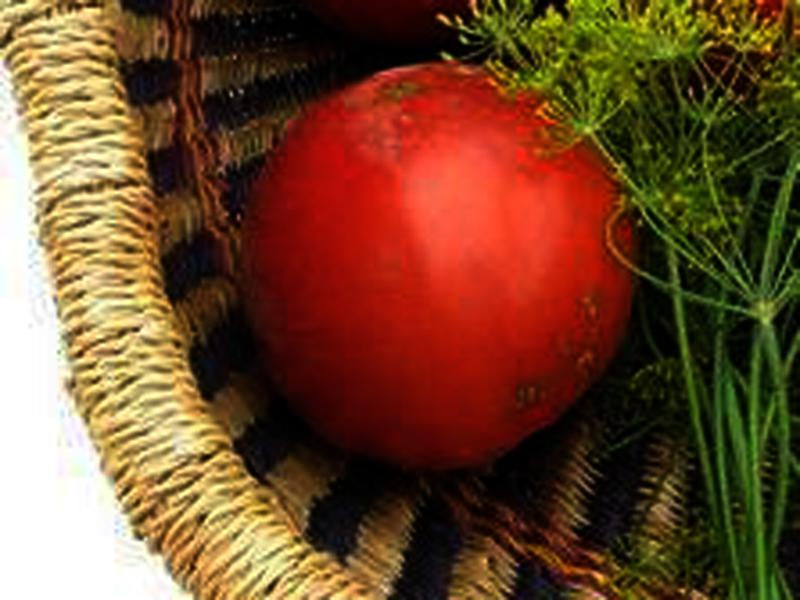Tomato: (240, 60, 642, 466)
